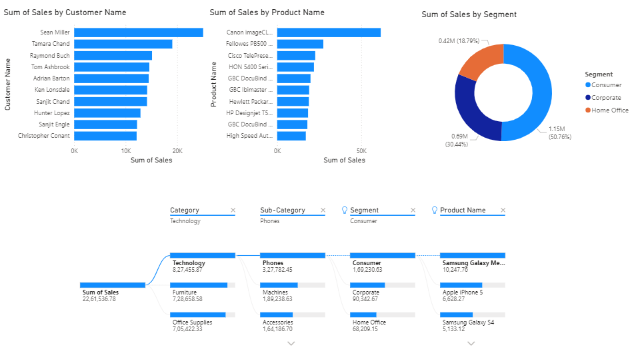

Layout of this report page (visuals, bound fields, positions):
{"tool":"powerbi","page":{"name":"Customer & Product Analysis","canvas":[1280,720],"ordinal":1},"visuals":[{"type":"clusteredBarChart","fields":{"Category":["train.Customer Name"],"Y":["Sum(train.Sales)"]},"box":[10,20,470,318],"z":0},{"type":"clusteredBarChart","fields":{"Category":["train.Product Name"],"Y":["Sum(train.Sales)"]},"box":[422,20,424,318],"z":1000},{"type":"donutChart","fields":{"Category":["train.Segment"],"Y":["Sum(train.Sales)"]},"box":[846,24,434,314],"z":2000},{"type":"decompositionTreeVisual","fields":{"Analyze":["Sum(train.Sales)"],"ExplainBy":["train.Category","train.Sub-Category","train.Segment","train.Product Name"]},"box":[138,400,942,320],"z":3000}]}

Visuals, with their boxes in screenshot pixels (x1, y1, x2, y2), scaled from the page's 1280x720 canvas onto the 635x355 screenshot:
clusteredBarChart - train.Customer Name x Sum(train.Sales): 5,10,238,167
clusteredBarChart - train.Product Name x Sum(train.Sales): 209,10,420,167
donutChart - train.Segment x Sum(train.Sales): 420,12,634,167
decompositionTreeVisual - Sum(train.Sales) x train.Category: 68,197,536,354
